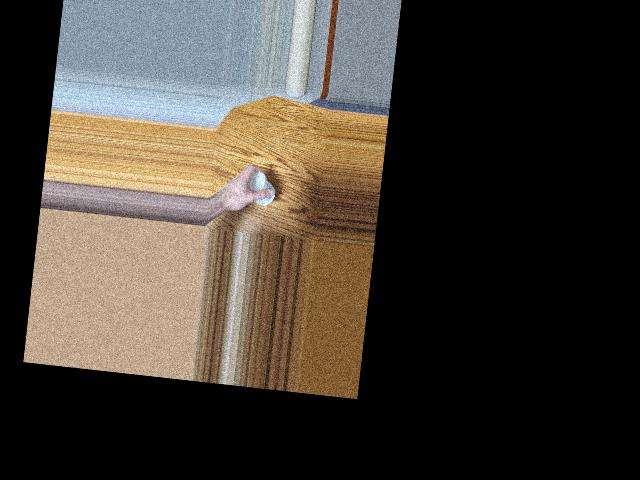cotage: (245, 163, 279, 203)
